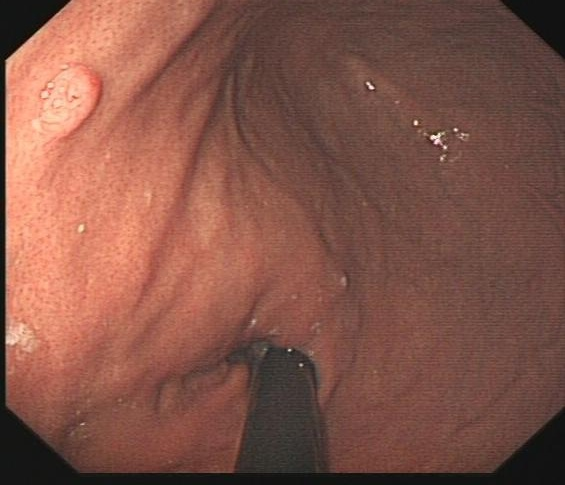Polyp: (43, 65, 108, 136)
